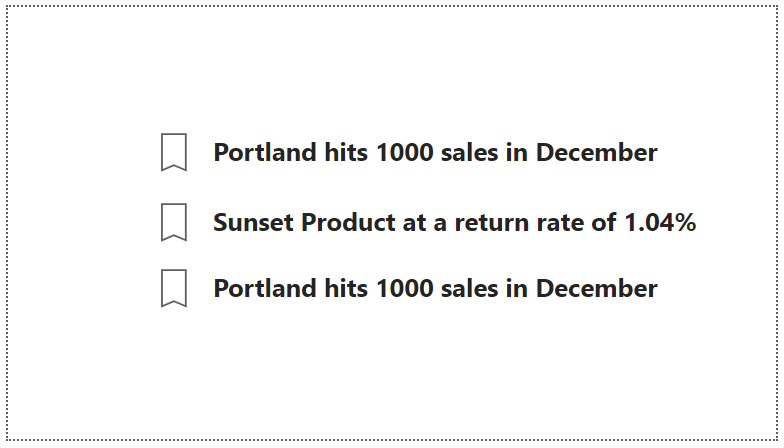

The dashboard page shown, as its layout file describes it:
{"tool":"powerbi","page":{"name":"Notes","canvas":[1280,720],"ordinal":1},"visuals":[{"type":"textbox","box":[336.7,205,773.3,76.7],"z":0},{"type":"textbox","box":[336.7,321.7,826.7,76.7],"z":1000},{"type":"textbox","box":[336.7,431.7,773.3,76.7],"z":2000},{"type":"actionButton","box":[236.7,193.3,80,98.3],"z":3000},{"type":"actionButton","box":[236.7,310,80,98.3],"z":4000},{"type":"actionButton","box":[236.7,420,80,98.3],"z":5000}]}

Visuals, with their boxes in screenshot pixels (x1, y1, x2, y2), scaled from the page's 1280x720 canvas onto the 784x448 screenshot:
textbox: <box>206,128,680,175</box>
textbox: <box>206,200,713,248</box>
textbox: <box>206,269,680,316</box>
actionButton: <box>145,120,194,181</box>
actionButton: <box>145,193,194,254</box>
actionButton: <box>145,261,194,322</box>
